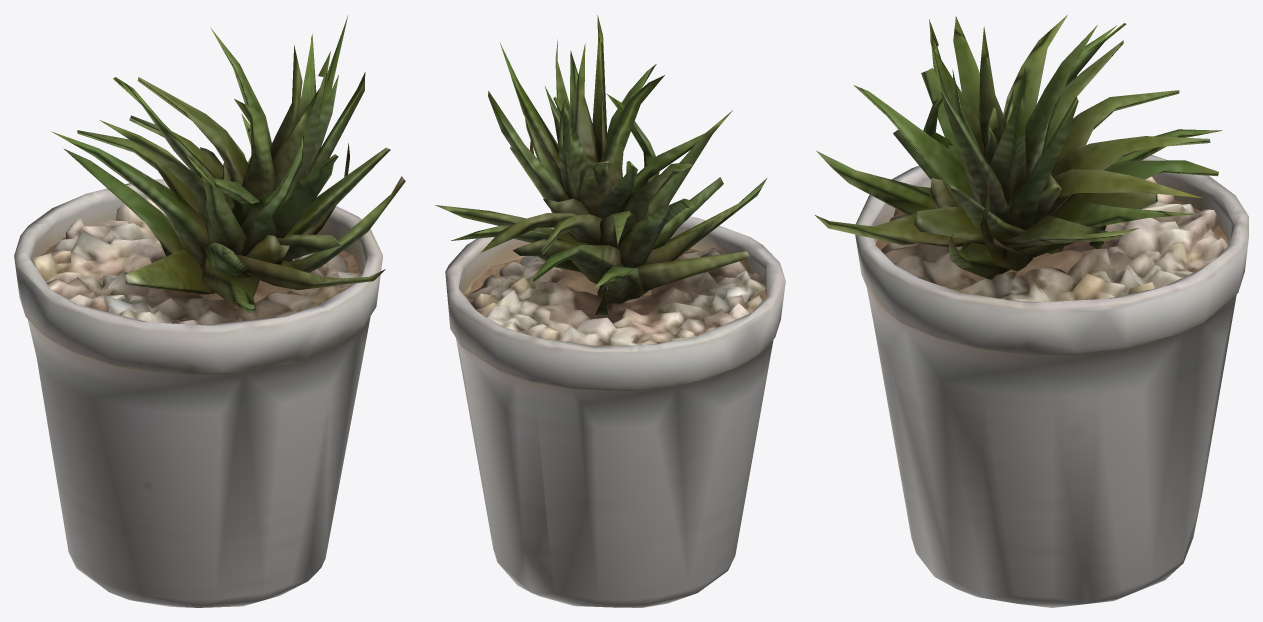
Rendered from potted_plant_04.glb.
3 views of the same model, side by side, from view 1: azimuth 30°, elevation 25°; view 2: azimuth 150°, elevation 25°; view 3: azimuth 270°, elevation 25° (orthographic). The views are drawn at different scales.
Visible parts, largest first — view 1: potted_plant_04_ground; view 2: potted_plant_04_ground; view 3: potted_plant_04_ground.
Part boxes in pixels (bbox=[...]): potted_plant_04_ground: bbox=[14, 15, 405, 607]; potted_plant_04_ground: bbox=[435, 15, 785, 607]; potted_plant_04_ground: bbox=[815, 15, 1248, 607].
Size of the model in its own units: 0.1669 by 0.2672 by 0.1831.
Materials: 1 (1 with a texture image).
